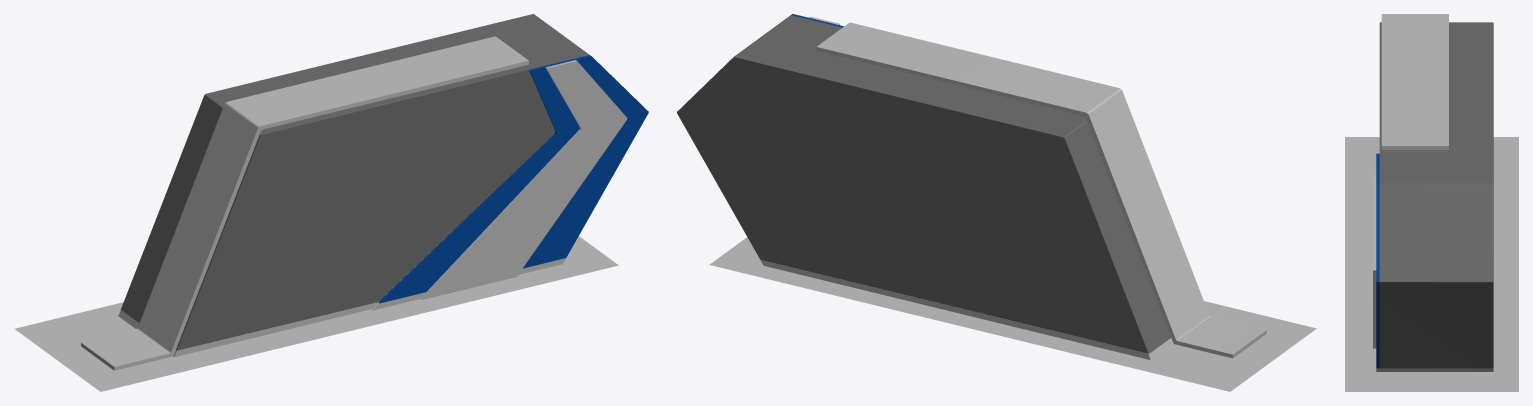
File: ReceptionDraco.89e65baa.glb
3 views of the same model, side by side, from view 1: azimuth 30°, elevation 25°; view 2: azimuth 150°, elevation 25°; view 3: azimuth 270°, elevation 25° (orthographic).
Visible parts, largest first — view 1: Resaption_table, Base_AO; view 2: Resaption_table, Base_AO; view 3: Resaption_table, Base_AO.
Boxes of the visible parts, <box> form: Resaption_table: <box>81,14,648,370</box>; Base_AO: <box>14,236,618,391</box>; Resaption_table: <box>677,14,1266,360</box>; Base_AO: <box>709,237,1316,391</box>; Resaption_table: <box>1373,14,1493,371</box>; Base_AO: <box>1345,137,1518,391</box>.
Bounding box in the file's own units: 3.01 × 1.07 × 0.7973.
